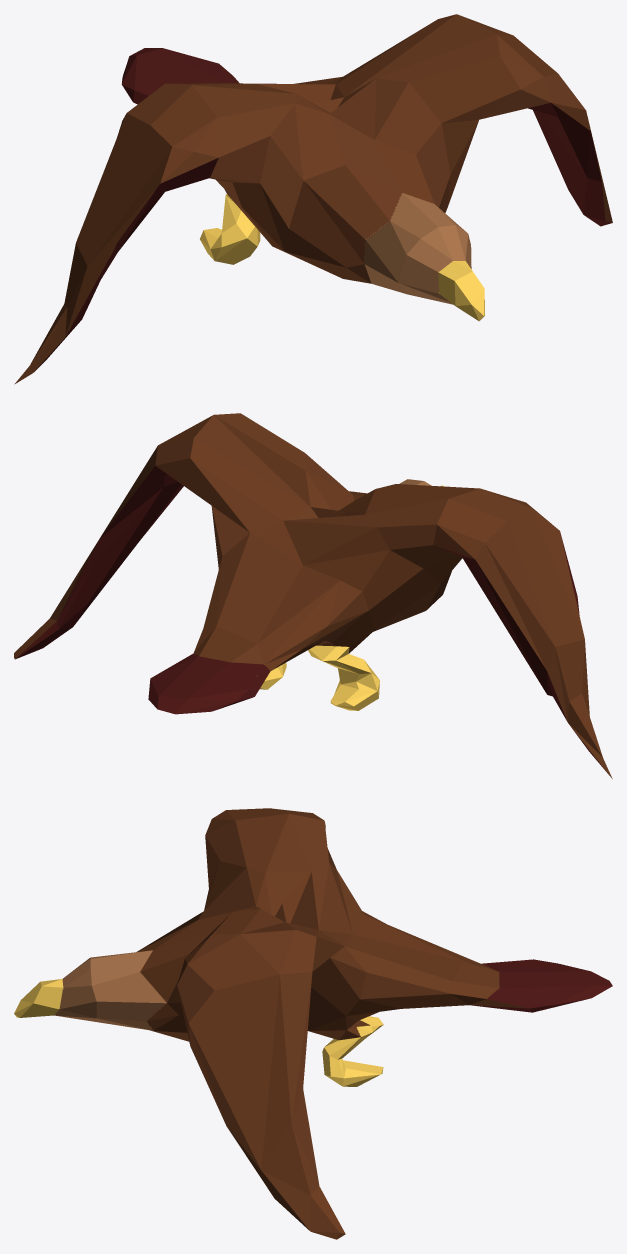
File: aguili_000033.obj
3 renders of one model, top to bottom at view 1: azimuth 30°, elevation 25°; view 2: azimuth 150°, elevation 25°; view 3: azimuth 270°, elevation 25°, orthographic. The views are drawn at different scales.
Parts seen in each view (by area): view 1: aguila.001_Cube.001; view 2: aguila.001_Cube.001; view 3: aguila.001_Cube.001.
Boxes of the visible parts, x1,y1,x2,y2 form: aguila.001_Cube.001: (14, 14, 612, 384); aguila.001_Cube.001: (14, 413, 612, 779); aguila.001_Cube.001: (14, 808, 612, 1239).
Size of the model in its own units: 60.53 by 24.46 by 56.5.
1 material, 1 textured.
